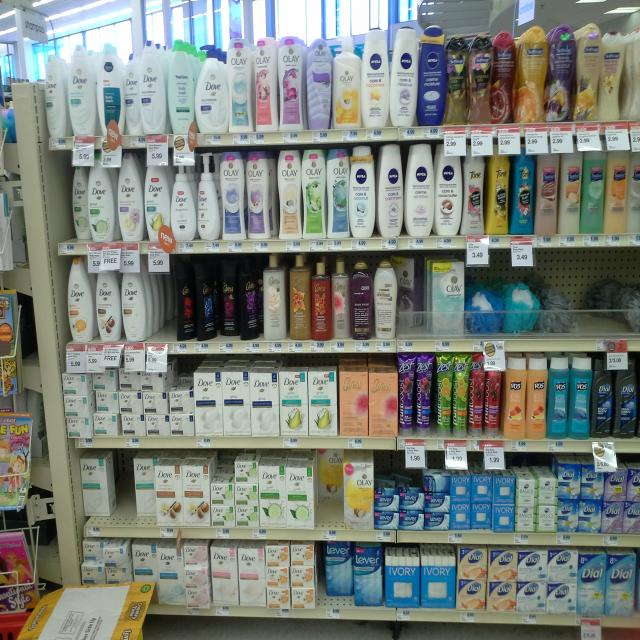unorganised: (172, 261, 261, 339), (79, 454, 117, 524), (394, 259, 425, 332), (193, 153, 218, 240), (314, 461, 345, 527), (67, 158, 90, 245), (324, 543, 353, 606), (129, 458, 155, 523), (120, 49, 139, 137), (94, 372, 120, 419), (214, 461, 236, 484)
